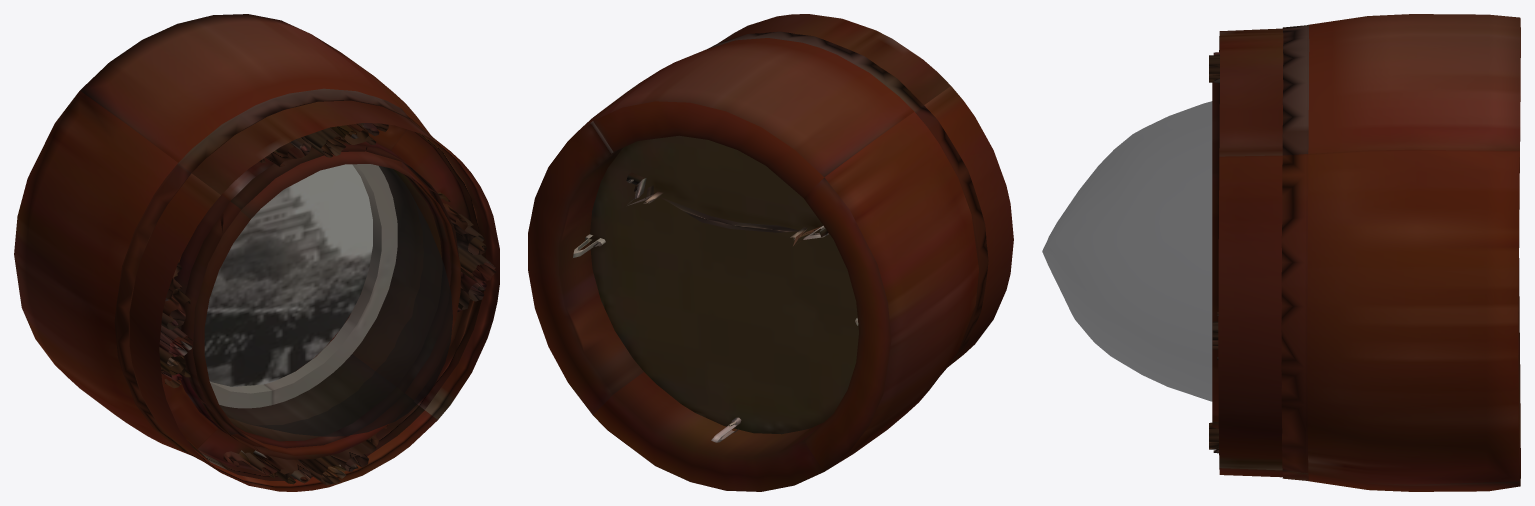
File: ph-hanging-picture-frame-03.glb
3 renders of one model, left to right at view 1: azimuth 30°, elevation 25°; view 2: azimuth 150°, elevation 25°; view 3: azimuth 270°, elevation 25°, orthographic. The views are drawn at different scales.
Parts seen in each view (by area): view 1: hanging_picture_frame_03, hanging_picture_frame_03_glass; view 2: hanging_picture_frame_03; view 3: hanging_picture_frame_03, hanging_picture_frame_03_glass.
Part boxes in pixels (box(x1,y1,x2,y2)): hanging_picture_frame_03: box(14, 14, 499, 491); hanging_picture_frame_03_glass: box(205, 164, 452, 436); hanging_picture_frame_03: box(528, 14, 1013, 491); hanging_picture_frame_03: box(1209, 14, 1520, 491); hanging_picture_frame_03_glass: box(1042, 101, 1212, 401).
Size of the model in its own units: 0.9993 by 0.9993 by 1.
Materials: 3 (2 with a texture image).
